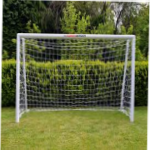goals: (13, 30, 137, 126)
